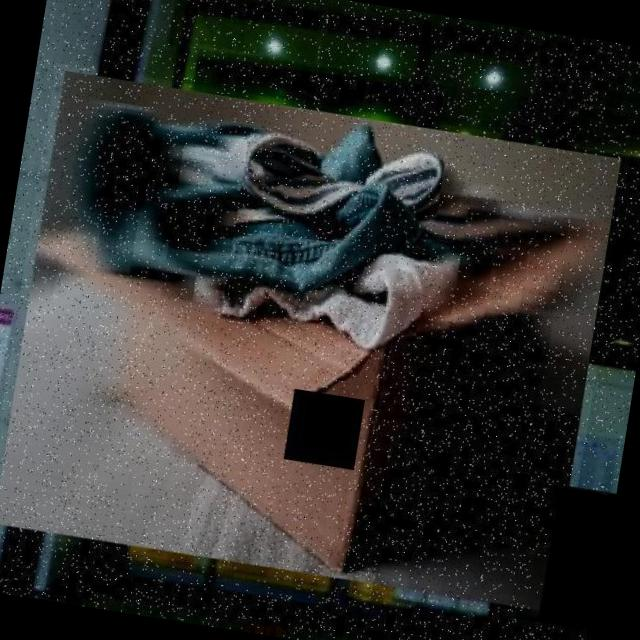box: (0, 63, 631, 621)
